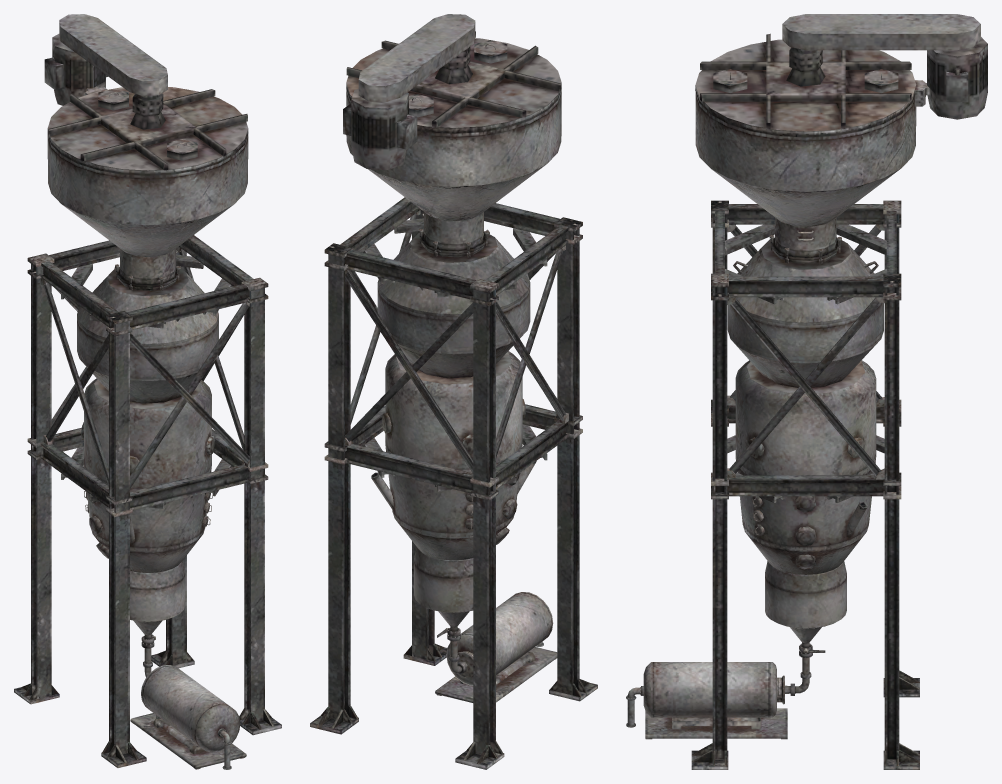
The model's file is sm22_027_mixer01a.fbx.
3 renders of one model, left to right at view 1: azimuth 30°, elevation 25°; view 2: azimuth 150°, elevation 25°; view 3: azimuth 270°, elevation 25°, orthographic. The views are drawn at different scales.
Visible parts, largest first — view 1: LOD_1_Group_0_Sub_1__sm22_027_Mixer01A_A_Mat1; view 2: LOD_1_Group_0_Sub_1__sm22_027_Mixer01A_A_Mat1; view 3: LOD_1_Group_0_Sub_1__sm22_027_Mixer01A_A_Mat1.
Boxes of the visible parts, x1,y1,x2,y2 form: LOD_1_Group_0_Sub_1__sm22_027_Mixer01A_A_Mat1: (14, 14, 281, 769); LOD_1_Group_0_Sub_1__sm22_027_Mixer01A_A_Mat1: (310, 14, 597, 769); LOD_1_Group_0_Sub_1__sm22_027_Mixer01A_A_Mat1: (626, 14, 987, 769).
Bounding box in the file's own units: 1.15 × 4.04 × 1.89.
